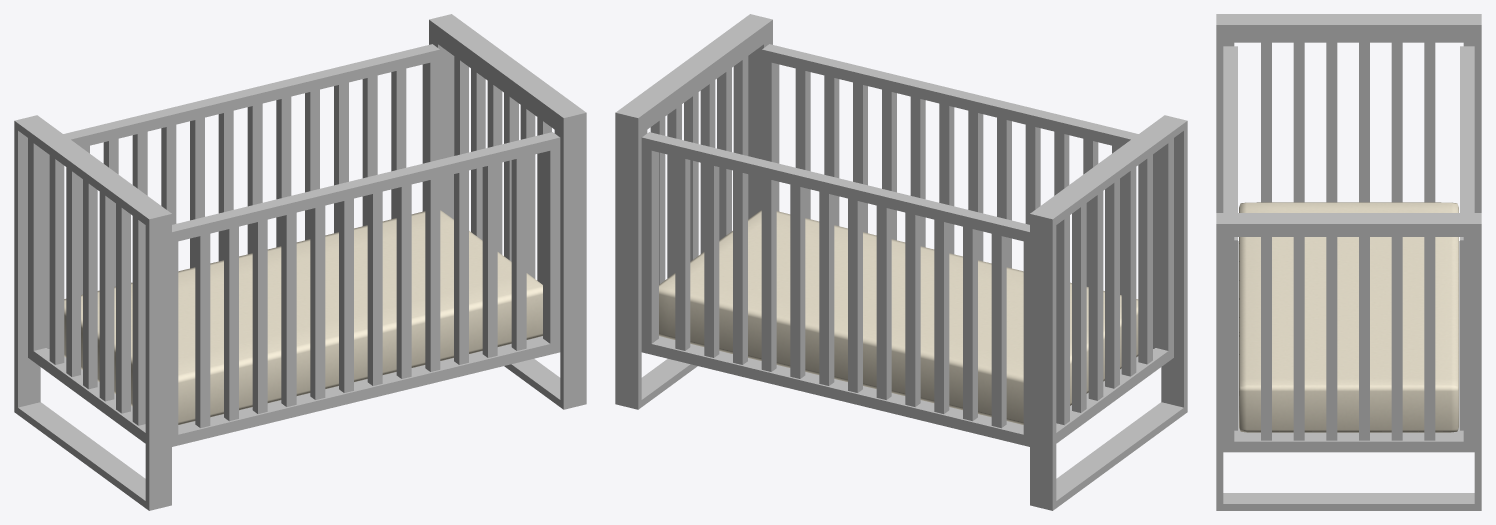
The model's file is Bed35.fbx.
3 renders of one model, left to right at view 1: azimuth 30°, elevation 25°; view 2: azimuth 150°, elevation 25°; view 3: azimuth 270°, elevation 25°, orthographic.
Parts seen in each view (by area): view 1: BedFrame35, Mattress35; view 2: BedFrame35, Mattress35; view 3: BedFrame35, Mattress35.
Boxes of the visible parts, box(x1,y1,x2,y2) form: BedFrame35: box(14, 14, 586, 510); Mattress35: box(64, 210, 542, 424); BedFrame35: box(615, 14, 1187, 510); Mattress35: box(659, 210, 1138, 424); BedFrame35: box(1216, 14, 1481, 510); Mattress35: box(1239, 202, 1458, 432).
Bounding box in the file's own units: 142 × 90.21 × 75.59.
